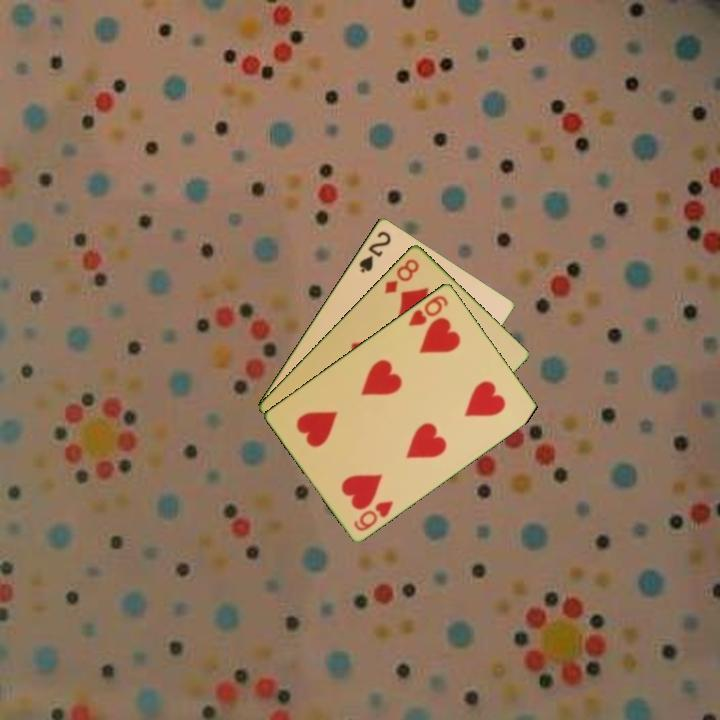2s: (355, 227, 394, 275)
6h: (405, 291, 451, 329), (350, 497, 396, 534)
8d: (381, 255, 422, 296)
